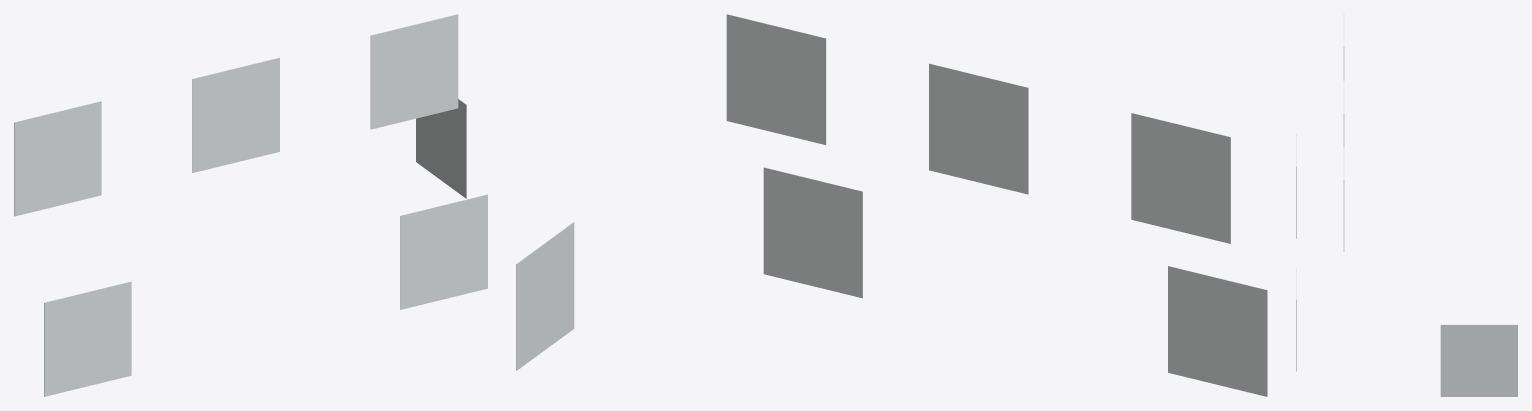
File: Ventanas.obj
The picture shows the model from 3 angles, left to right: view 1: azimuth 30°, elevation 25°; view 2: azimuth 150°, elevation 25°; view 3: azimuth 270°, elevation 25°; orthographic projection. The views are drawn at different scales.
Visible parts, largest first — view 1: Ventanas:polySurface1537pasted__polySurface1094group3; view 2: Ventanas:polySurface1537pasted__polySurface1094group3; view 3: Ventanas:polySurface1537pasted__polySurface1094group3.
Part boxes in pixels (x1,y1,x2,y2): Ventanas:polySurface1537pasted__polySurface1094group3: (14,14,487,396); Ventanas:polySurface1537pasted__polySurface1094group3: (516,14,1267,396); Ventanas:polySurface1537pasted__polySurface1094group3: (1296,14,1517,396).
Size of the model in its own units: 8.7 by 4.04 by 4.23.
Materials: 1 (1 with a texture image).
